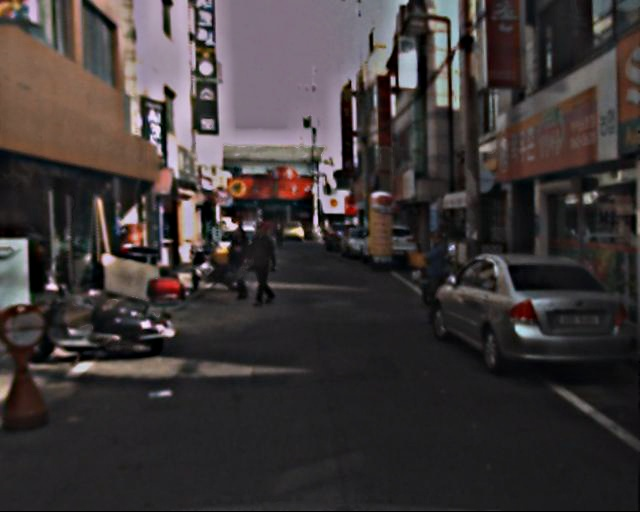person: (421, 228, 458, 330), (245, 221, 284, 307), (224, 225, 255, 303), (274, 220, 286, 247)
